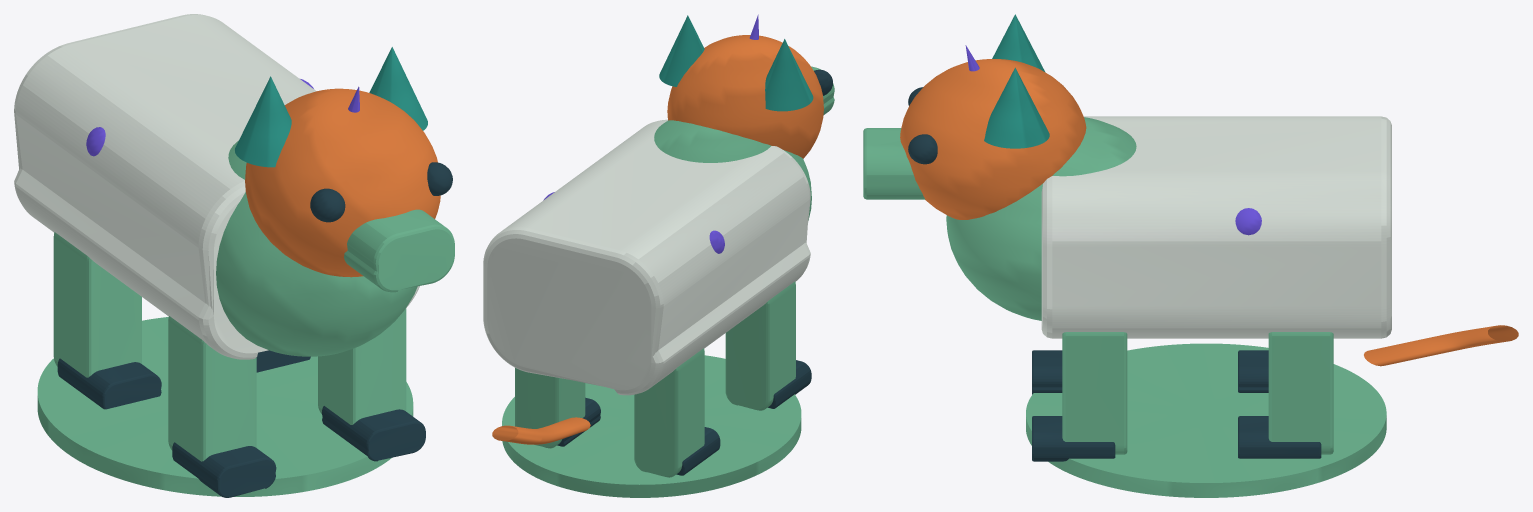
File: 0899_森林动物图鉴_紫貂.glb
3 renders of one model, left to right at view 1: azimuth 30°, elevation 25°; view 2: azimuth 150°, elevation 25°; view 3: azimuth 270°, elevation 25°, orthographic. The views are drawn at different scales.
Parts seen in each view (by area): view 1: card_0899; view 2: card_0899; view 3: card_0899.
Boxes of the visible parts, x1,y1,x2,y2 form: card_0899: (14, 14, 454, 497); card_0899: (483, 14, 834, 497); card_0899: (863, 14, 1518, 497).
Bounding box in the file's own units: 0.7725 × 1 × 1.53.
